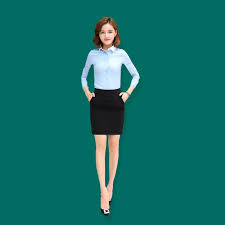F_shirt: (80, 44, 140, 108)
F_tailored skirt: (86, 84, 128, 142)
